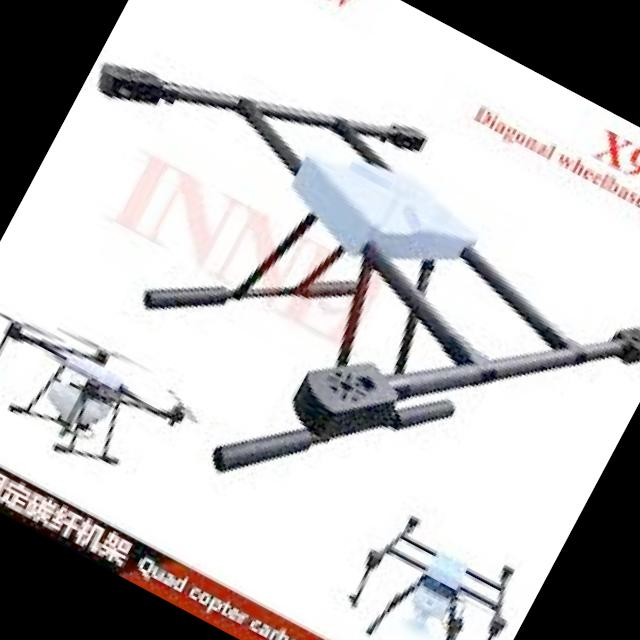drone: (0, 0, 640, 621), (0, 267, 221, 518), (322, 490, 536, 640)
